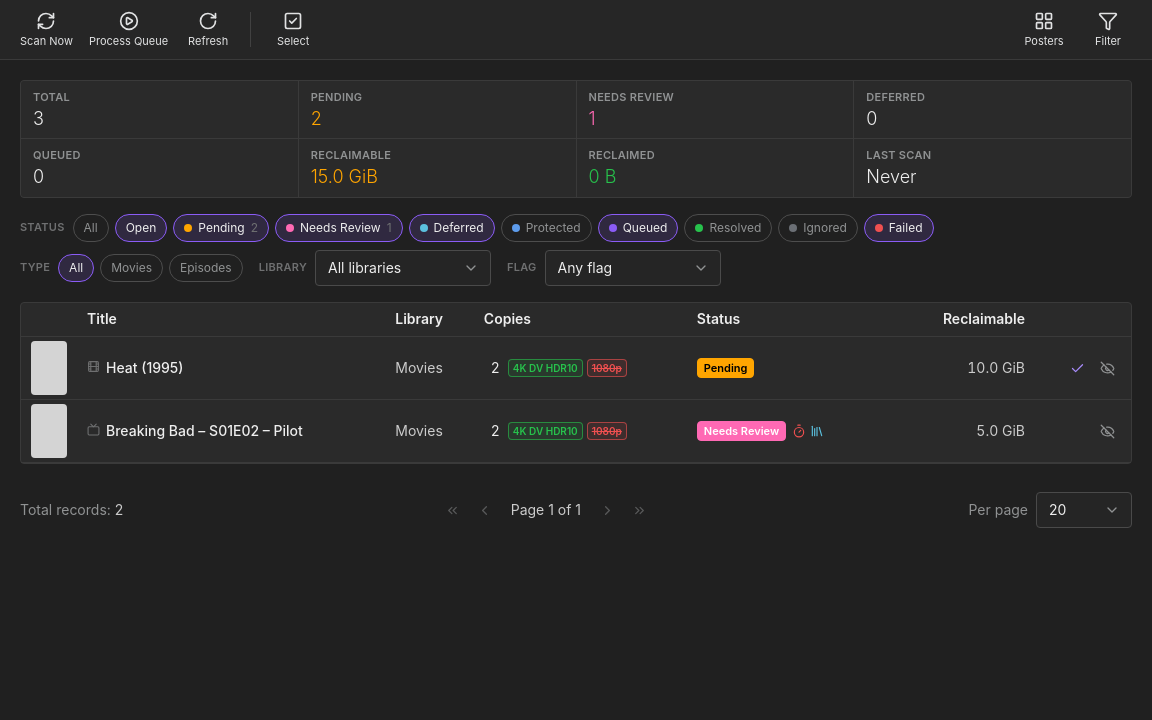
Test case: <DuplicatesPage> › approves a single group from its row, but never a review group
Expected: the link "Heat (1995)" is shown, [106,358,184,378]
Expected: the button named "Ignore Pilot" is shown, [1093,417,1121,445]
Click the button named "Approve Heat".
click(1077, 368)  # box [1063,354,1091,382]
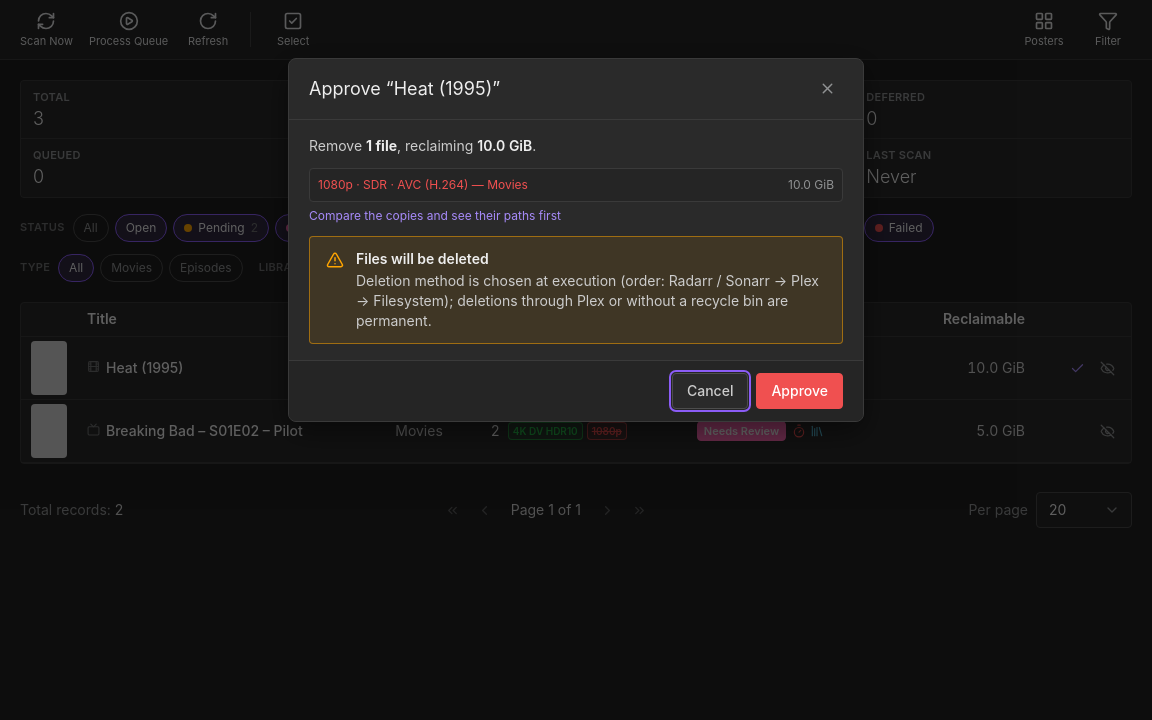
Now the element with test id "bulk-summary" reads "Remove 1 file, reclaiming 10.0 GiB.", box [309,137,536,154]
Now the list named "Files to remove" shows "1080p", box [318,177,528,192]
Now the text "deletions through Plex or without a recycle bin are permanent" is shown, box [356,272,819,329]
Click the button "Approve".
click(800, 391)  # box [756,373,843,409]
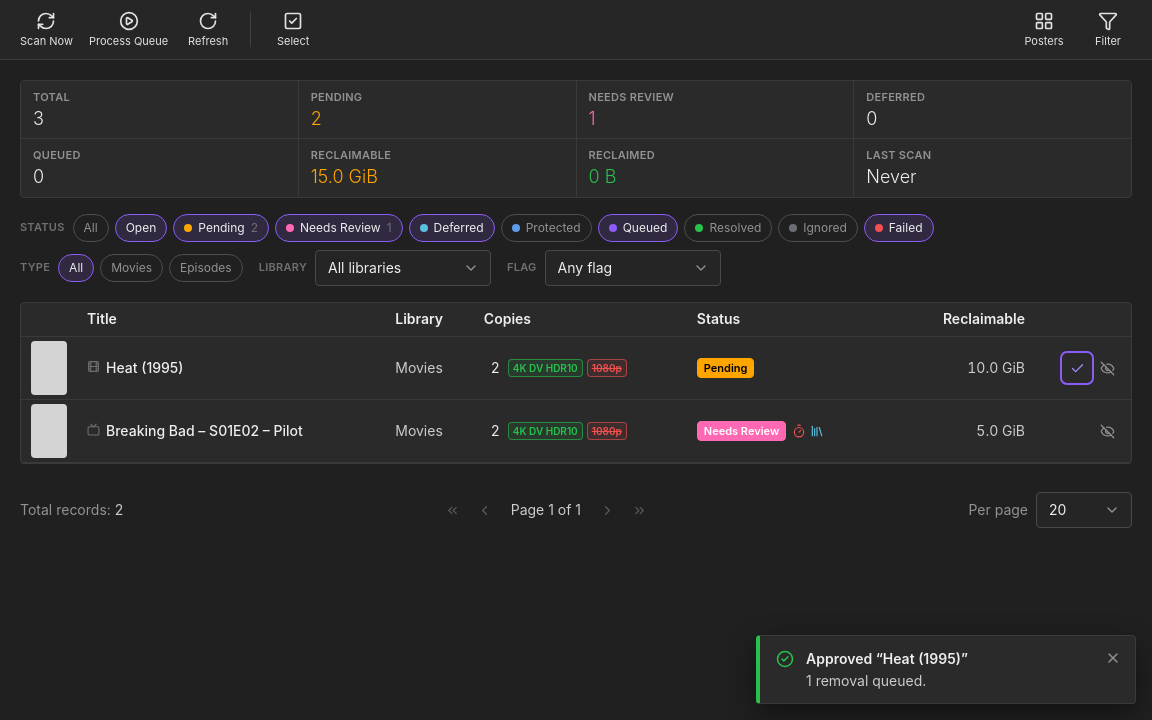
Now the text "Approved “Heat (1995)”" is shown, box [806,650,968,667]
